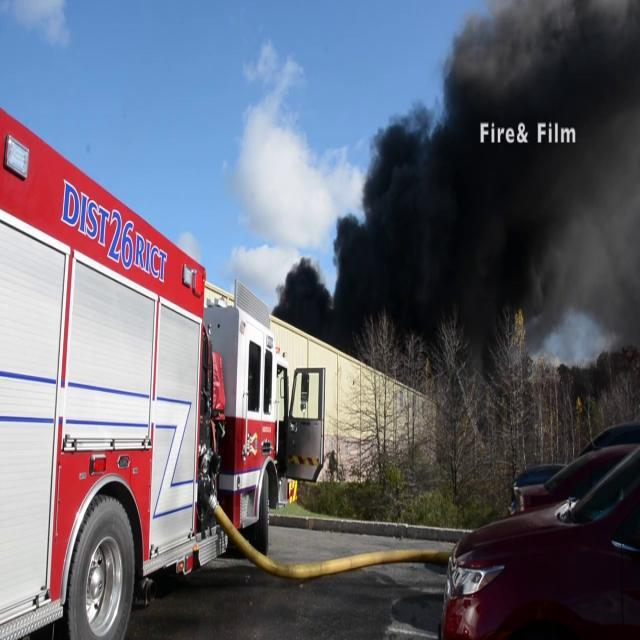Smoke: (298, 1, 640, 376)
